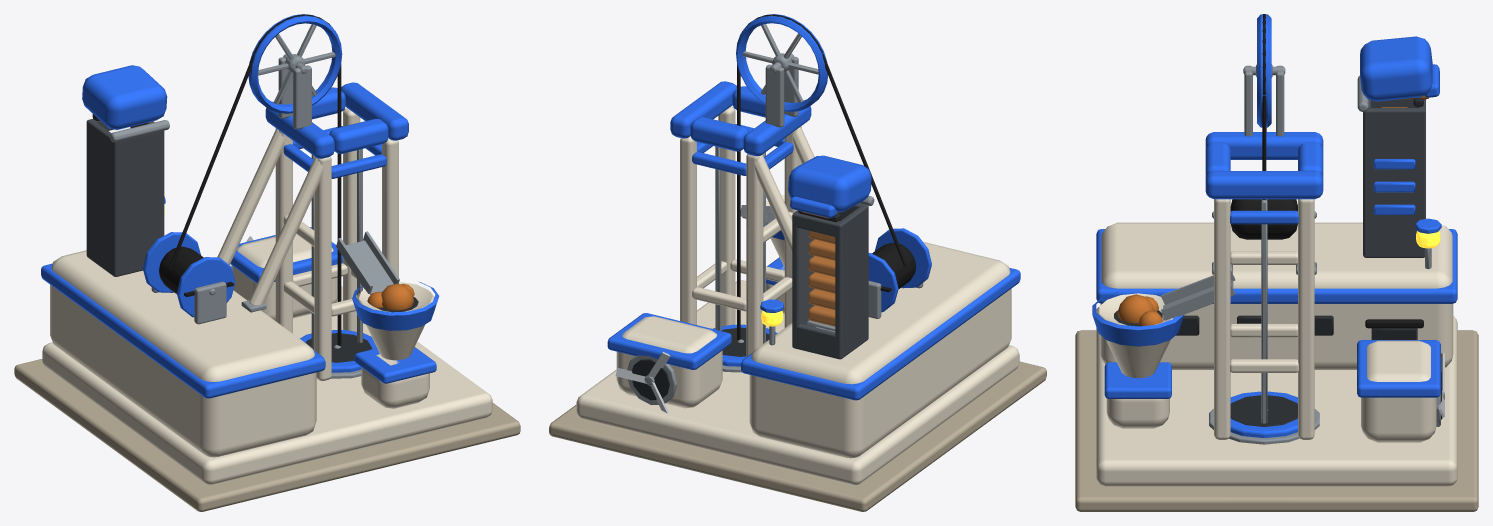
Rendered from deep_mine.glb.
3 views of the same model, side by side, from view 1: azimuth 30°, elevation 25°; view 2: azimuth 150°, elevation 25°; view 3: azimuth 270°, elevation 25° (orthographic). The views are drawn at different scales.
Visible parts, largest first — view 1: stage_1__M_CreamPlastic, stage_2__M_CreamPlastic, stage_0__M_SugarPad, stage_2__M_SmokePlastic, stage_1__M_Team, stage_3__M_Team, stage_2__M_Team, stage_2__M_SpringSteel, dm_head__M_Team, dm_drum__M_Team, dm_sheave__M_Team, stage_3__M_SpringSteel (+7 smaller); view 2: stage_1__M_CreamPlastic, stage_2__M_CreamPlastic, stage_0__M_SugarPad, stage_2__M_SmokePlastic, stage_1__M_Team, stage_3__M_Team, dm_head__M_Team, stage_2__M_ClearGlass, dm_drum__M_Team, stage_2__M_SpringSteel, dm_sheave__M_Team, stage_3__M_SpringSteel (+8 smaller); view 3: stage_1__M_CreamPlastic, stage_0__M_SugarPad, stage_2__M_CreamPlastic, stage_2__M_SmokePlastic, stage_1__M_Team, stage_3__M_Team, stage_2__M_Team, dm_head__M_Team, stage_1__M_Dark, stage_2__M_SpringSteel, dm_drum__M_Licorice, dm_sheave__M_Team (+4 smaller).
Boxes of the visible parts, x1=… form: stage_1__M_CreamPlastic: x1=42, y1=234, x2=492, y2=484; stage_2__M_CreamPlastic: x1=217, y1=108, x2=434, y2=408; stage_0__M_SugarPad: x1=14, y1=359, x2=520, y2=511; stage_2__M_SmokePlastic: x1=86, y1=119, x2=164, y2=276; stage_1__M_Team: x1=41, y1=227, x2=376, y2=398; stage_3__M_Team: x1=265, y1=82, x2=408, y2=158; stage_2__M_Team: x1=283, y1=126, x2=439, y2=383; stage_2__M_SpringSteel: x1=151, y1=149, x2=399, y2=349; dm_head__M_Team: x1=82, y1=65, x2=167, y2=129; dm_drum__M_Team: x1=142, y1=232, x2=235, y2=317; dm_sheave__M_Team: x1=248, y1=14, x2=342, y2=113; stage_3__M_SpringSteel: x1=278, y1=54, x2=311, y2=129; stage_1__M_CreamPlastic: x1=576, y1=242, x2=1019, y2=485; stage_2__M_CreamPlastic: x1=680, y1=106, x2=814, y2=356; stage_0__M_SugarPad: x1=549, y1=361, x2=1046, y2=511; stage_2__M_SmokePlastic: x1=792, y1=203, x2=868, y2=359; stage_1__M_Team: x1=607, y1=268, x2=1020, y2=400; stage_3__M_Team: x1=670, y1=81, x2=811, y2=156; dm_head__M_Team: x1=788, y1=155, x2=871, y2=218; stage_2__M_ClearGlass: x1=799, y1=229, x2=834, y2=333; dm_drum__M_Team: x1=868, y1=228, x2=931, y2=312; stage_2__M_SpringSteel: x1=715, y1=146, x2=923, y2=345; dm_sheave__M_Team: x1=736, y1=14, x2=827, y2=112; stage_3__M_SpringSteel: x1=765, y1=53, x2=798, y2=127; stage_1__M_CreamPlastic: x1=1096, y1=222, x2=1457, y2=486; stage_0__M_SugarPad: x1=1075, y1=330, x2=1478, y2=511; stage_2__M_CreamPlastic: x1=1096, y1=199, x2=1314, y2=439; stage_2__M_SmokePlastic: x1=1363, y1=99, x2=1425, y2=257; stage_1__M_Team: x1=1096, y1=229, x2=1457, y2=437; stage_3__M_Team: x1=1205, y1=132, x2=1323, y2=199; stage_2__M_Team: x1=1092, y1=159, x2=1415, y2=398; dm_head__M_Team: x1=1360, y1=36, x2=1439, y2=101; stage_1__M_Dark: x1=1176, y1=315, x2=1441, y2=426; stage_2__M_SpringSteel: x1=1161, y1=199, x2=1431, y2=423; dm_drum__M_Licorice: x1=1230, y1=199, x2=1297, y2=239; dm_sheave__M_Team: x1=1257, y1=14, x2=1271, y2=127.
Size of the model in its own units: 1.92 by 2.31 by 1.92.
